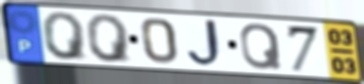0: (138, 16, 182, 66)
7: (282, 24, 323, 73)
J: (186, 18, 229, 69)
Q: (40, 10, 91, 62), (84, 13, 135, 64), (238, 22, 285, 72)
